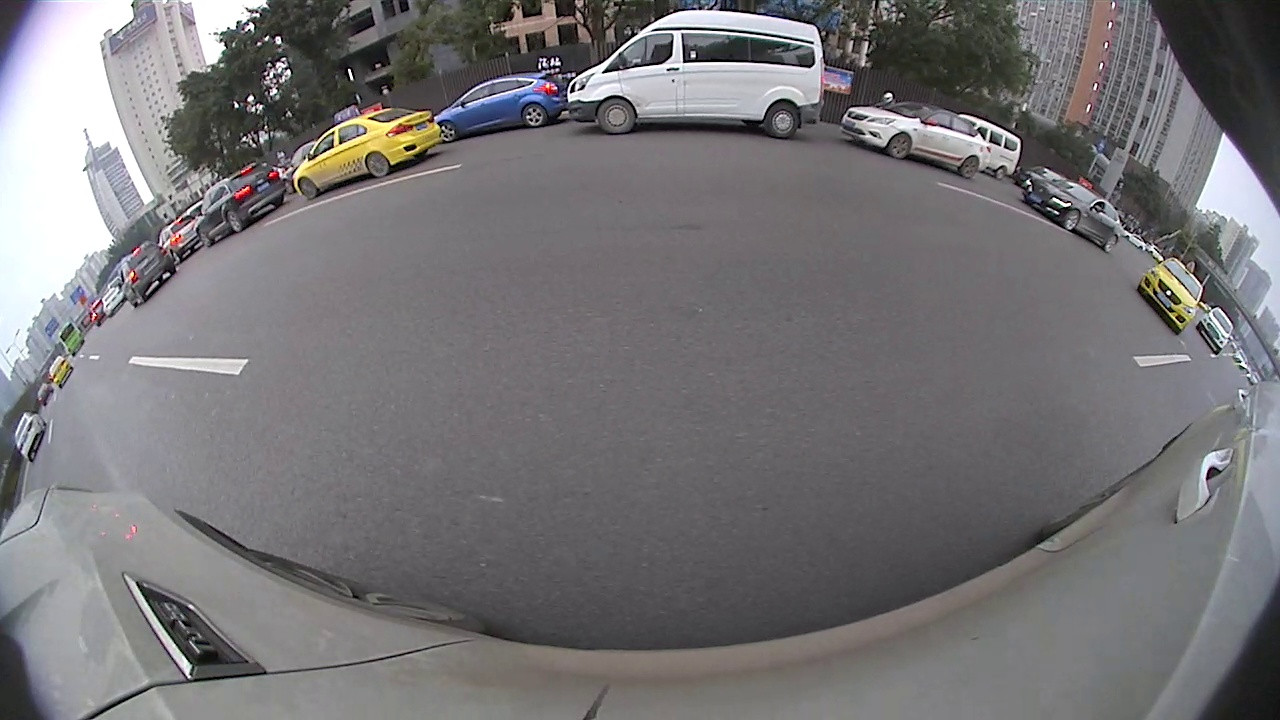car: (567, 10, 825, 139), (292, 106, 443, 200), (841, 101, 990, 179), (432, 75, 566, 143), (194, 161, 286, 248), (1021, 179, 1122, 254), (1137, 256, 1205, 335), (956, 113, 1021, 181), (118, 240, 176, 309), (158, 213, 203, 263), (1196, 305, 1235, 356), (12, 412, 47, 464)
front: (599, 101, 634, 132), (888, 134, 912, 159), (298, 178, 317, 196), (1064, 209, 1079, 230), (196, 230, 213, 246), (439, 123, 453, 141)
rear: (768, 105, 798, 137), (367, 151, 387, 177), (525, 105, 546, 128), (961, 157, 976, 176), (226, 213, 241, 229), (1105, 237, 1120, 253), (998, 165, 1005, 180)
